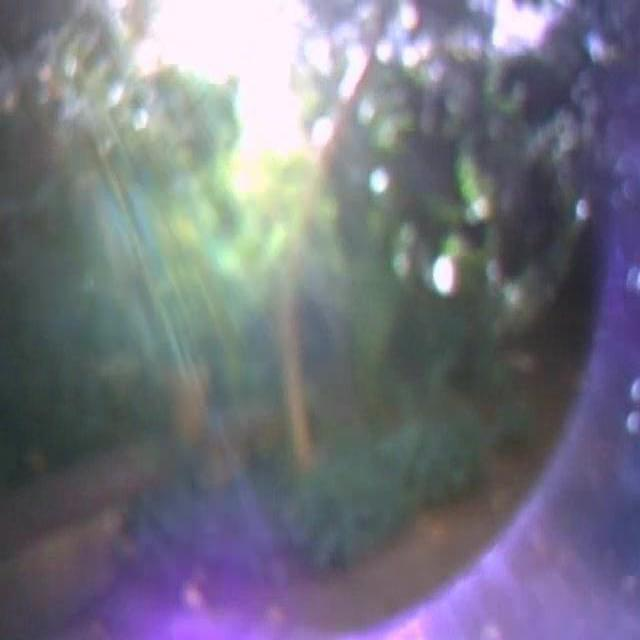other: (123, 10, 330, 243)
